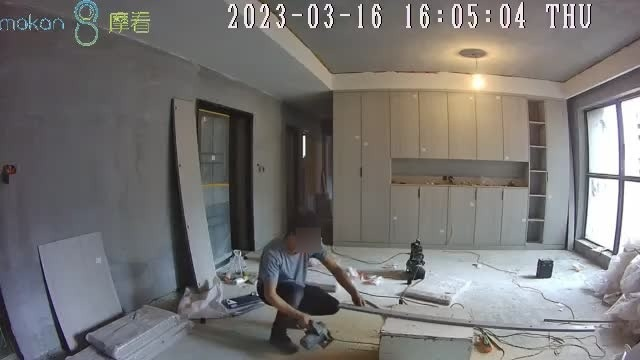people: (256, 214, 364, 354)
window: (580, 92, 640, 281)
